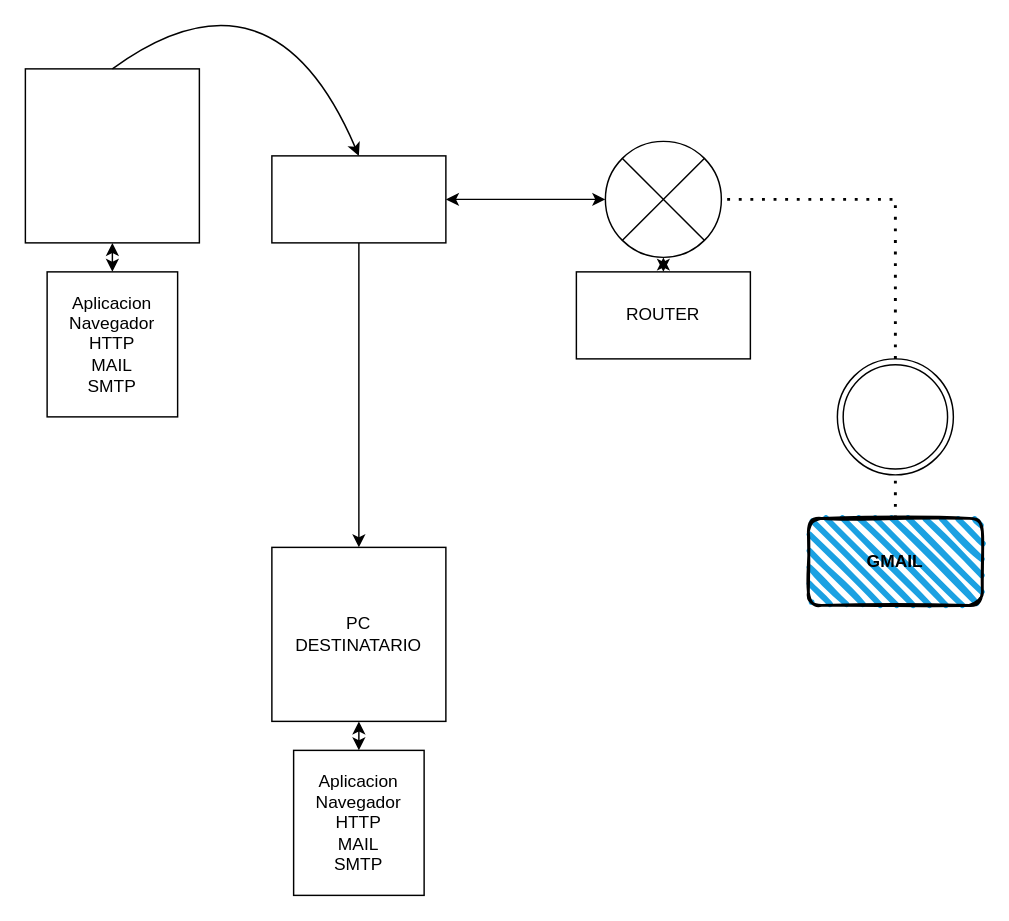
Image size: 1009x921. Some labels were removed from this diagram. The shapes that lost their labels are listed below. From the top down, each one's centre as x and y in pixels, then its label:
(111,155): PC
(358,198): SWITCH
(894,416): INTERNET
